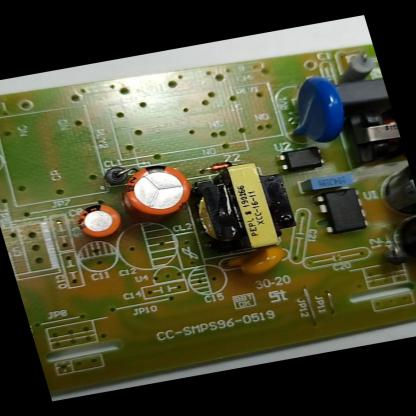Cap1: (112, 158, 201, 222)
Cap2: (70, 200, 126, 243)
Cap3: (370, 154, 416, 219)
Cap4: (388, 209, 416, 267)
MOSFET: (310, 184, 374, 239)
Mov: (272, 71, 354, 148)
Resistor: (334, 48, 380, 82)
Transformer: (182, 156, 305, 258), (337, 103, 406, 167)
